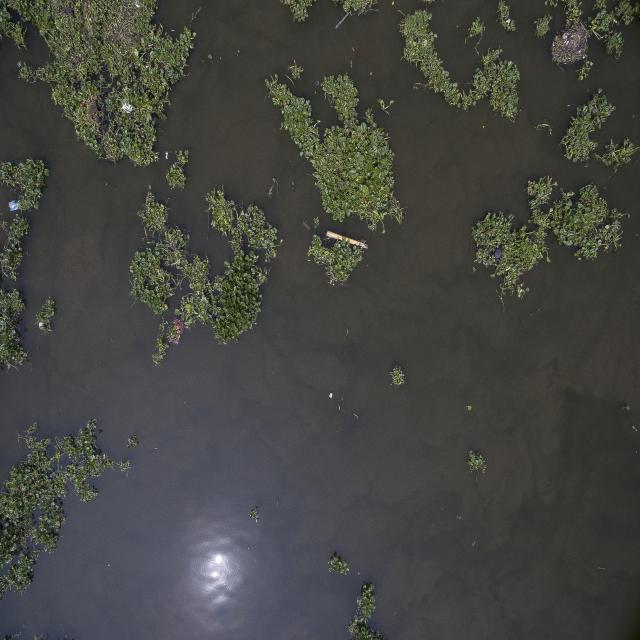plastic: (114, 96, 145, 125), (5, 196, 35, 221)
